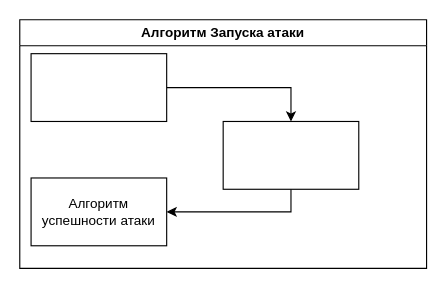
The diagram is 446 pixels wide and 288 high, and some of its shapes have lost their labels. The shapes that lost their labels are listed below. From the top down, each one's centre as x and y in pixels, then its label:
point 98,87: Вызов анимации удара
point 290,154: Unity.timer
